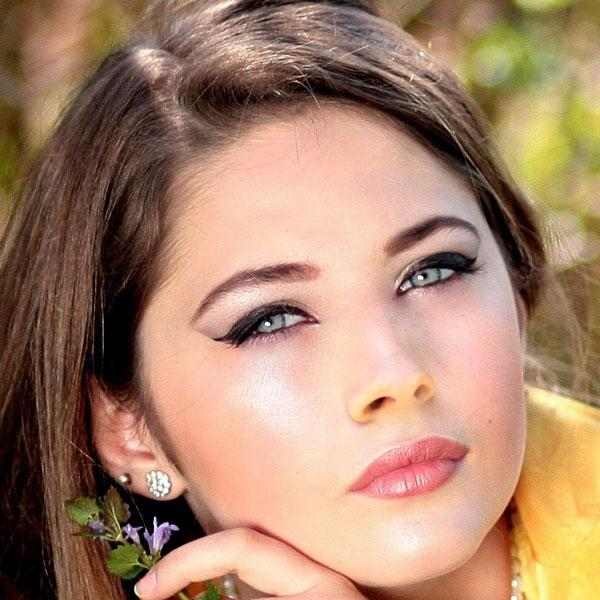Eyes: (211, 289, 328, 360), (381, 239, 481, 311)
